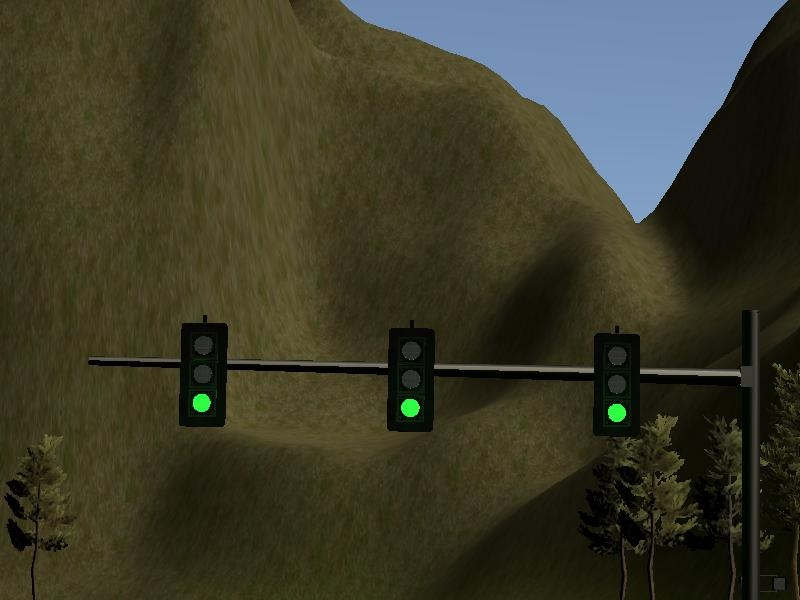GREEN: (386, 327, 433, 430), (180, 323, 227, 426), (594, 333, 640, 432)
